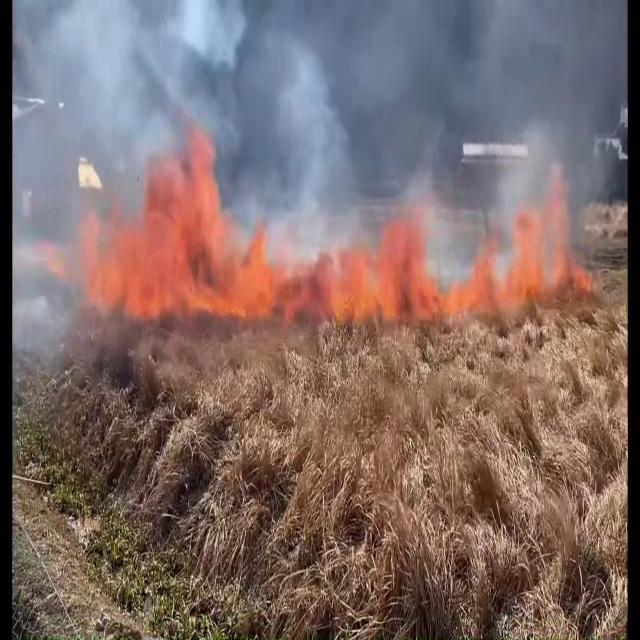Fire: (83, 127, 292, 321), (285, 207, 620, 318)
Smoke: (17, 0, 617, 252)
